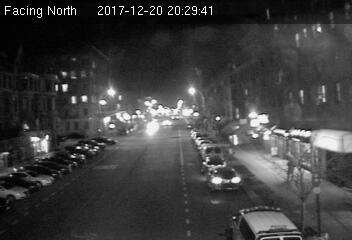car: (206, 167, 241, 189), (201, 155, 227, 176)
police: (228, 204, 302, 240)
